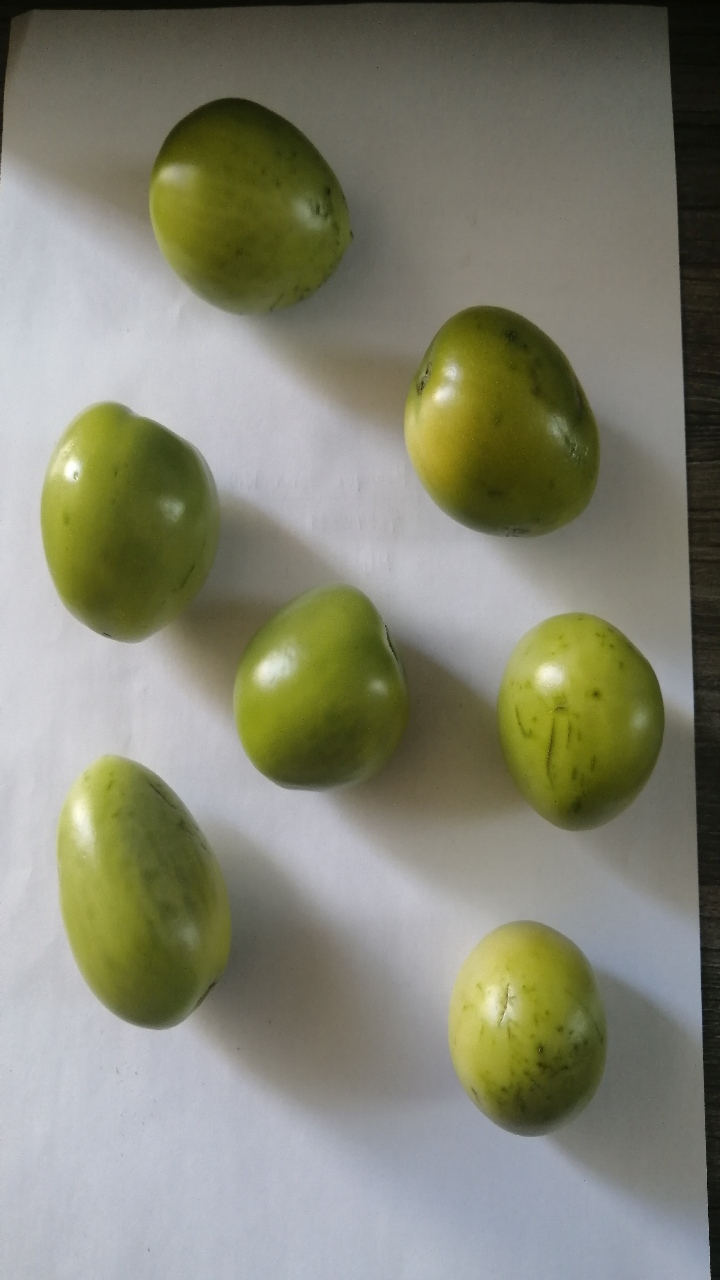tomateVerde: (129, 69, 392, 340), (41, 732, 243, 1042), (388, 282, 615, 554), (12, 383, 224, 666), (477, 589, 689, 848), (421, 891, 621, 1159), (217, 574, 429, 820)
